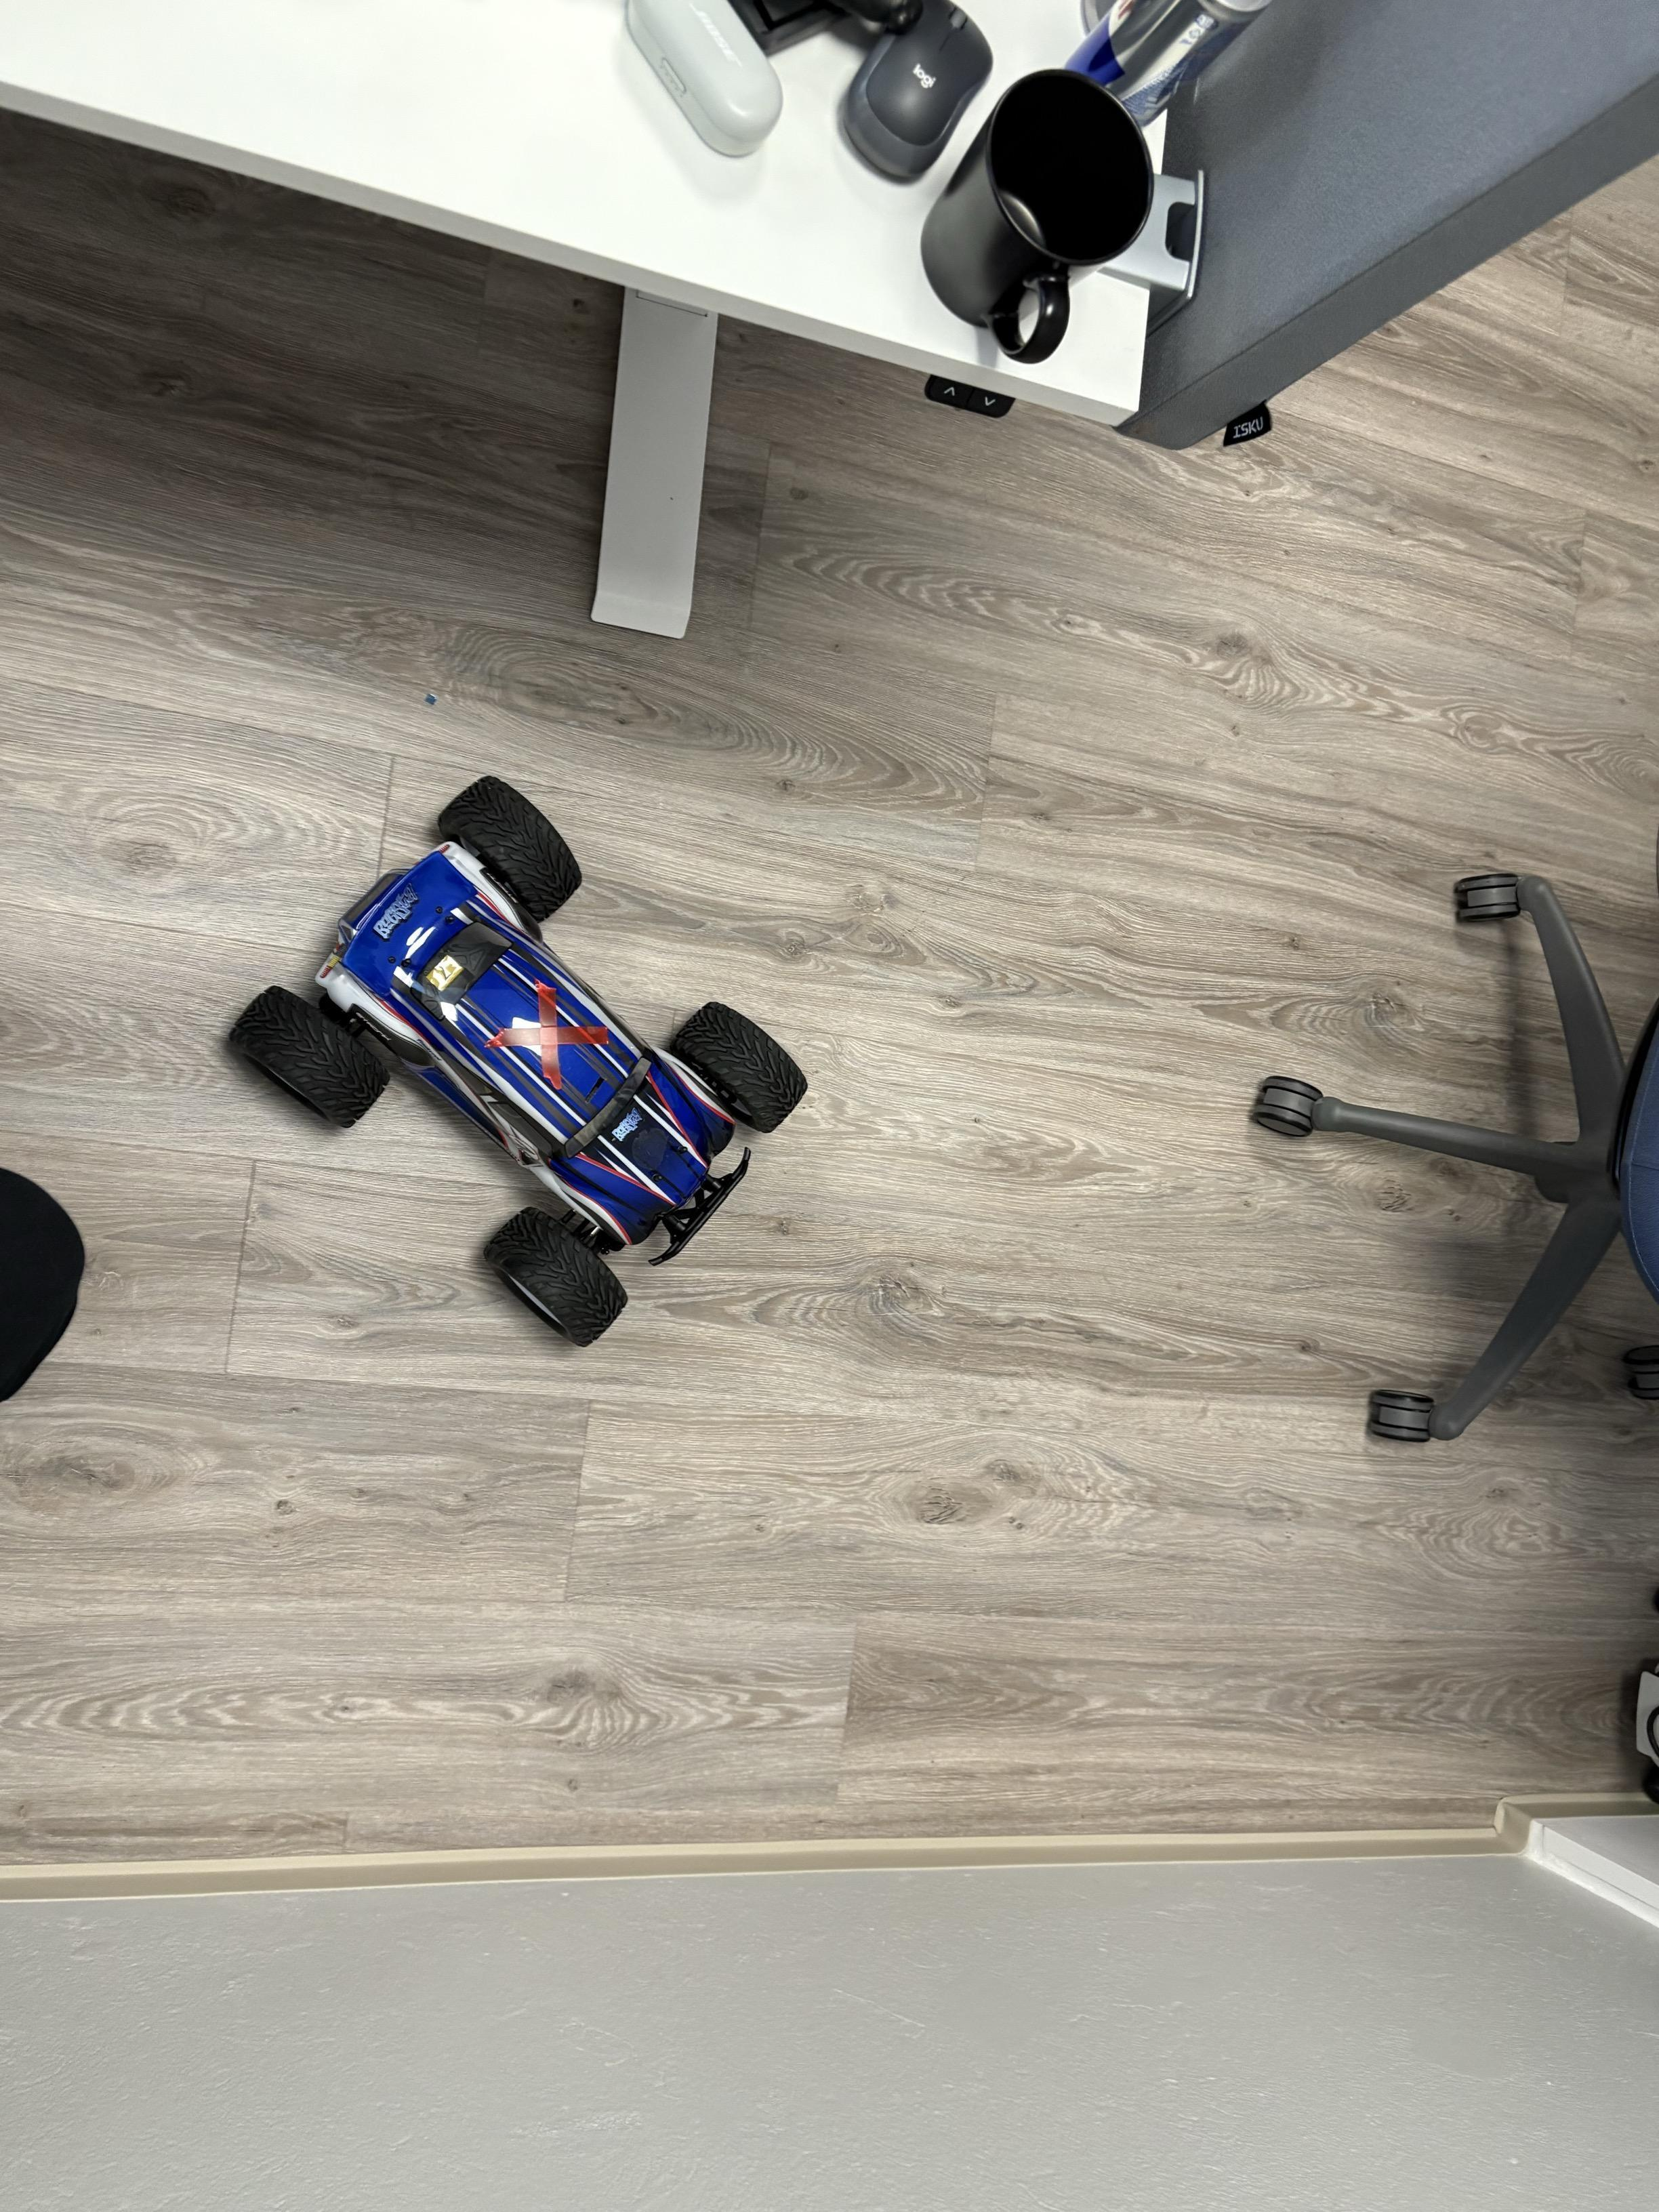Car: (186, 688, 836, 1386)
